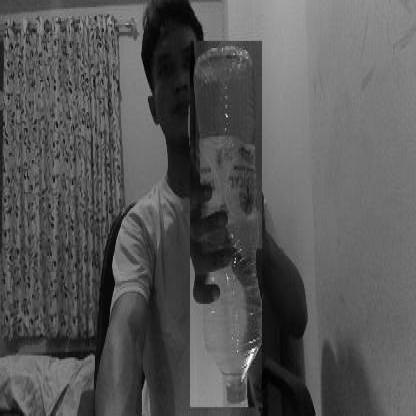plastic_bottles: (190, 41, 262, 407)
